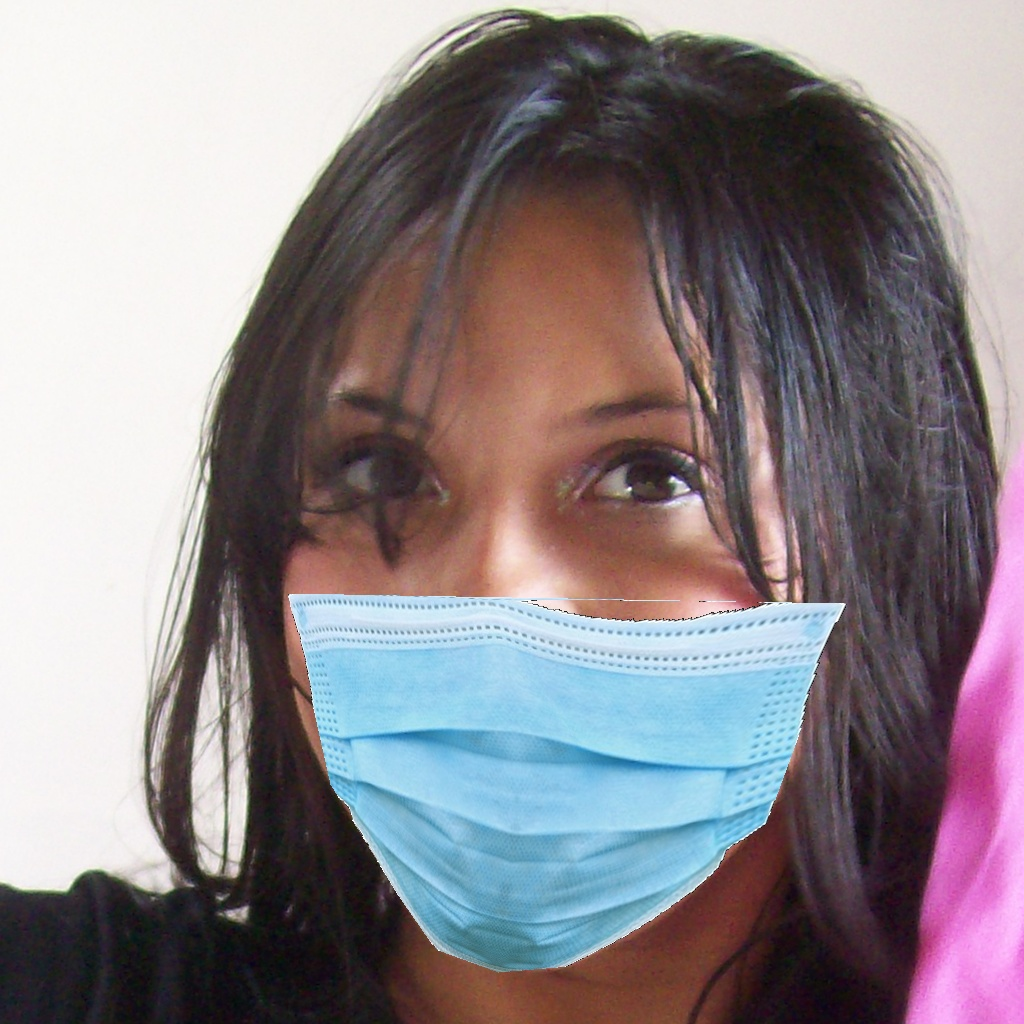with_mask: (273, 394, 836, 977)
